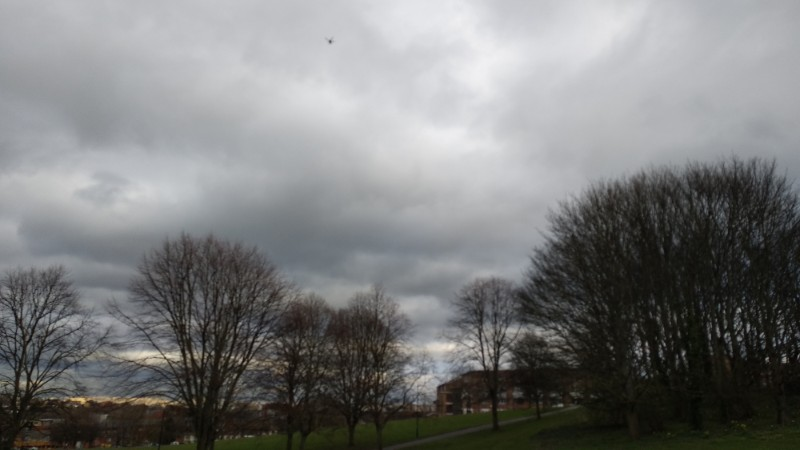drone: (324, 36, 336, 44)
